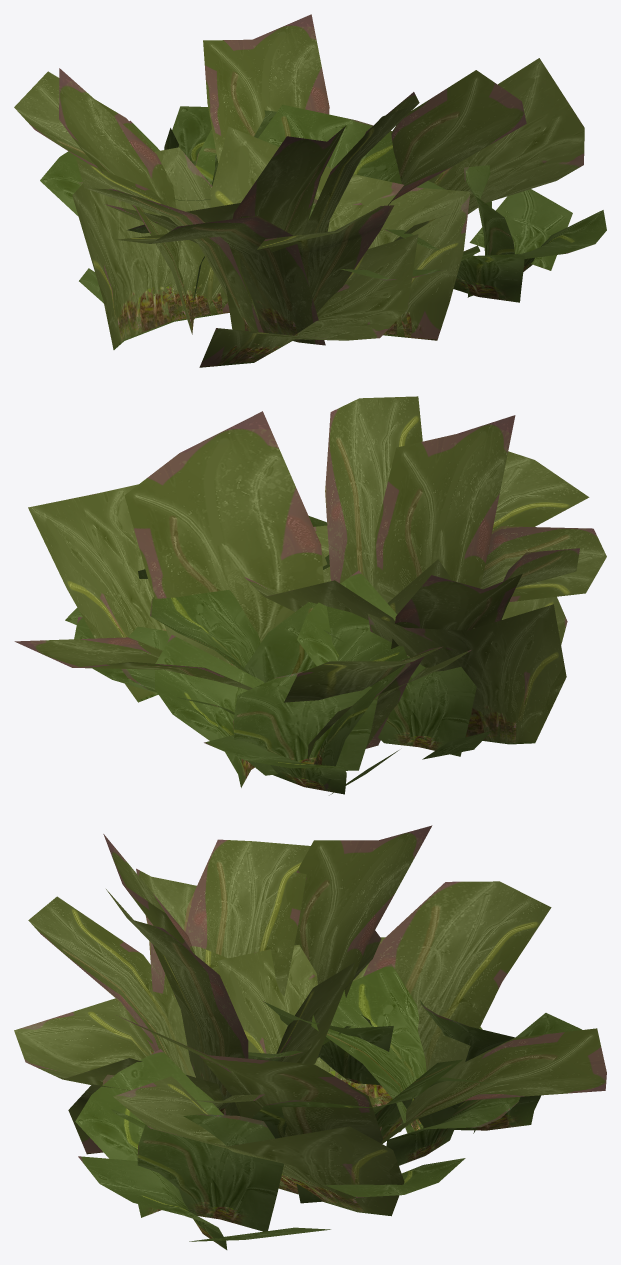
File: SM_Fol_Grass_Set6.fbx
3 views of the same model, one above another, from view 1: azimuth 30°, elevation 25°; view 2: azimuth 150°, elevation 25°; view 3: azimuth 270°, elevation 25° (orthographic). The views are drawn at different scales.
Visible parts, largest first — view 1: SM_Fol_Grass_Set6; view 2: SM_Fol_Grass_Set6; view 3: SM_Fol_Grass_Set6.
Part boxes in pixels (box(x1,y1,x2,y2)): SM_Fol_Grass_Set6: box(14, 14, 606, 367); SM_Fol_Grass_Set6: box(14, 396, 606, 795); SM_Fol_Grass_Set6: box(14, 825, 606, 1249).
Size of the model in its own units: 135 by 131 by 65.06.
1 material, 1 textured.
